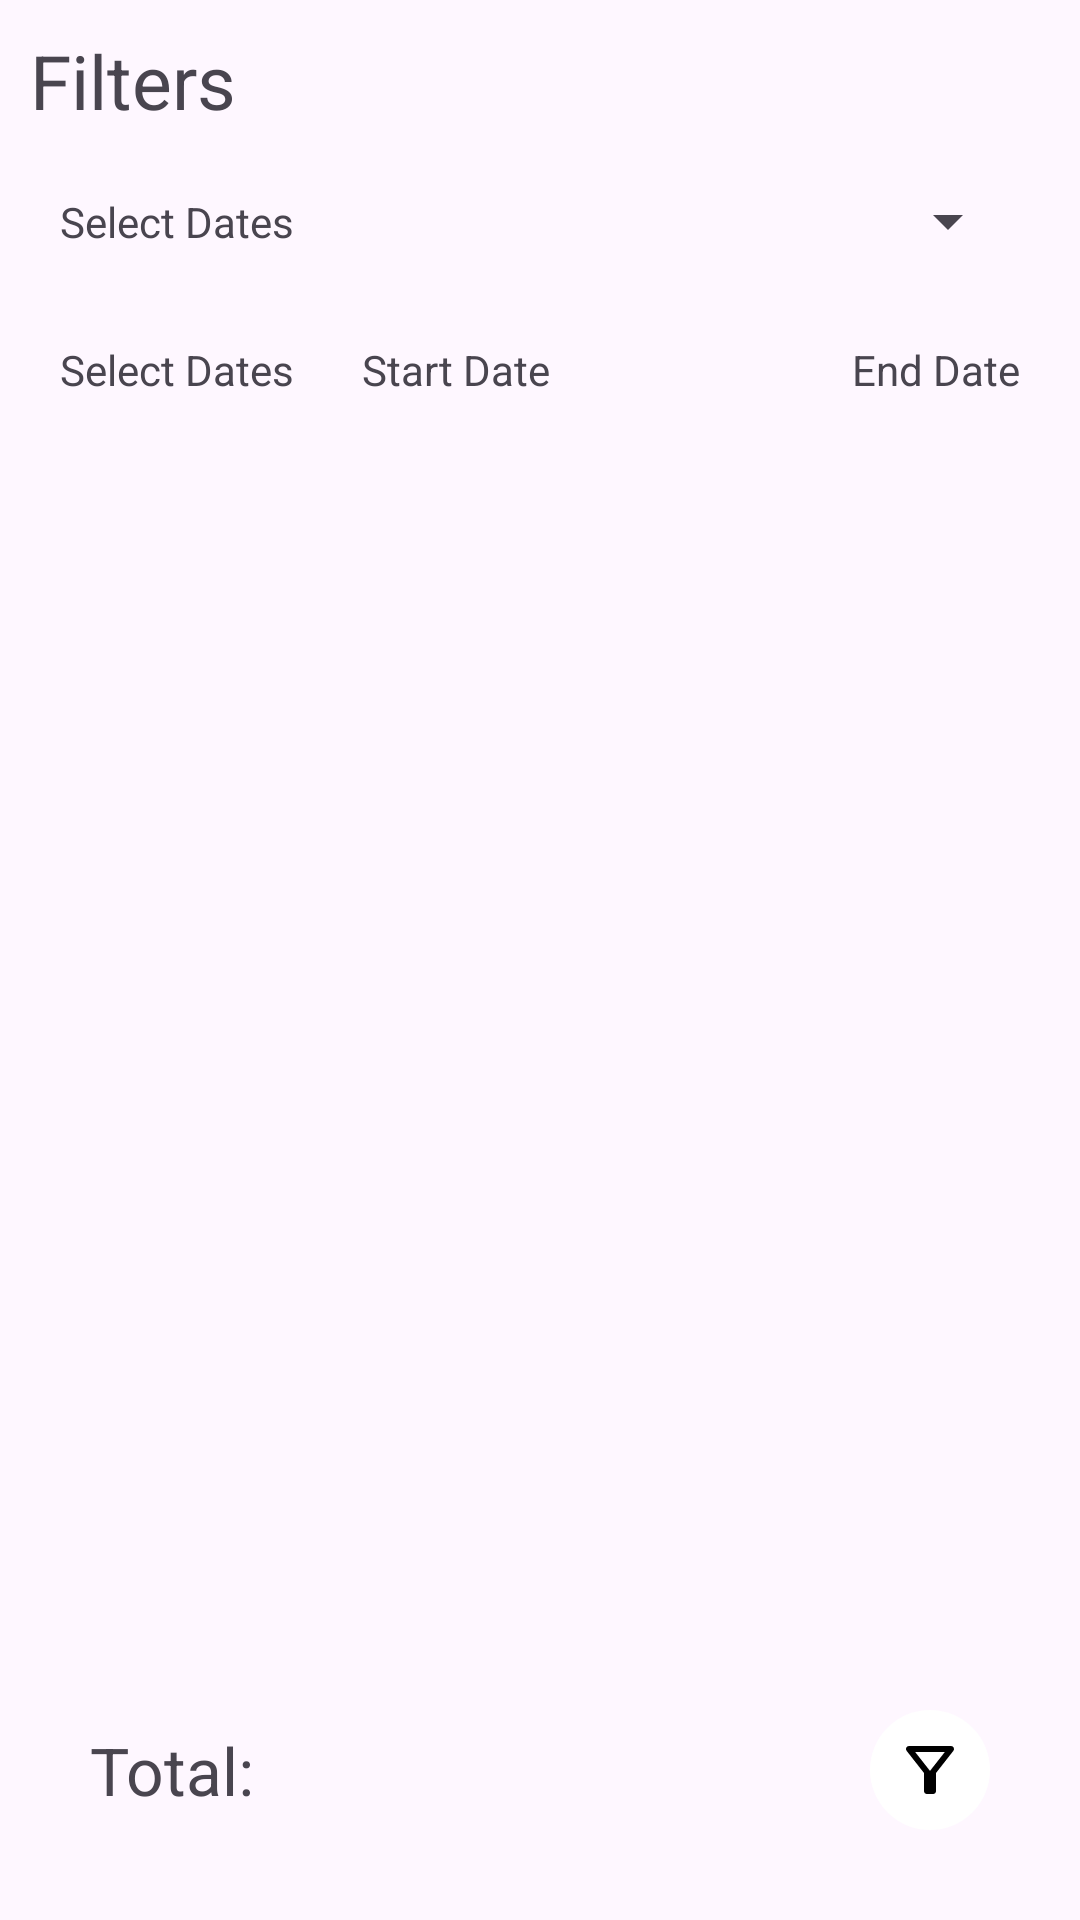

Screen size 1080*1920. Icon name, then its center in pixels as (x,y):
filter: (930,1770)
